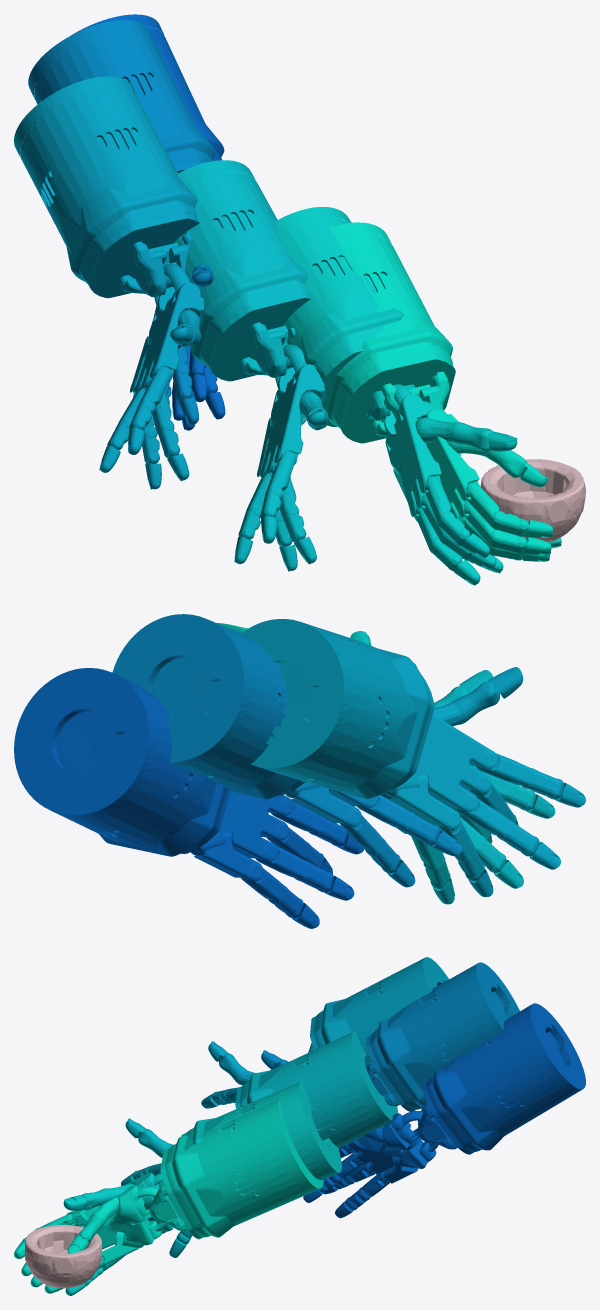
The picture shows the model from 3 angles, top to bottom: view 1: azimuth 30°, elevation 25°; view 2: azimuth 150°, elevation 25°; view 3: azimuth 270°, elevation 25°; orthographic projection. The views are drawn at different scales.
Visible parts, largest first — view 1: world, decomposed.obj; view 2: world; view 3: world, decomposed.obj.
Part boxes in pixels (x1,y1,x2,y2): world: (14, 14, 561, 585); decomposed.obj: (480, 459, 585, 542); world: (14, 614, 585, 928); world: (14, 957, 585, 1295); decomposed.obj: (25, 1225, 101, 1288).
Size of the model in its own units: 0.4192 by 0.4445 by 0.7788.
